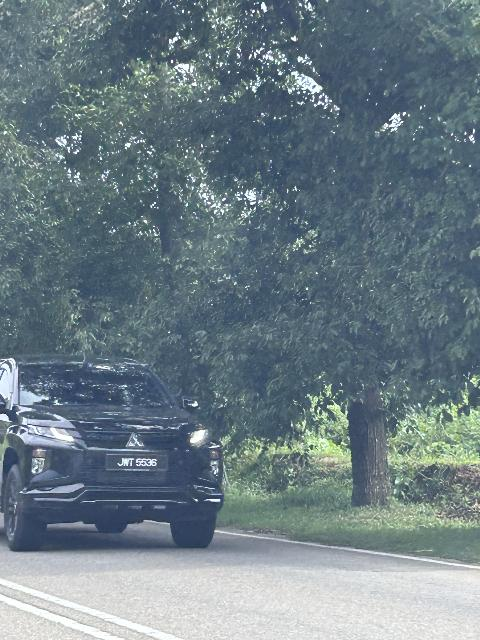License_Plate: (106, 455, 169, 474)
car: (1, 353, 239, 570)
